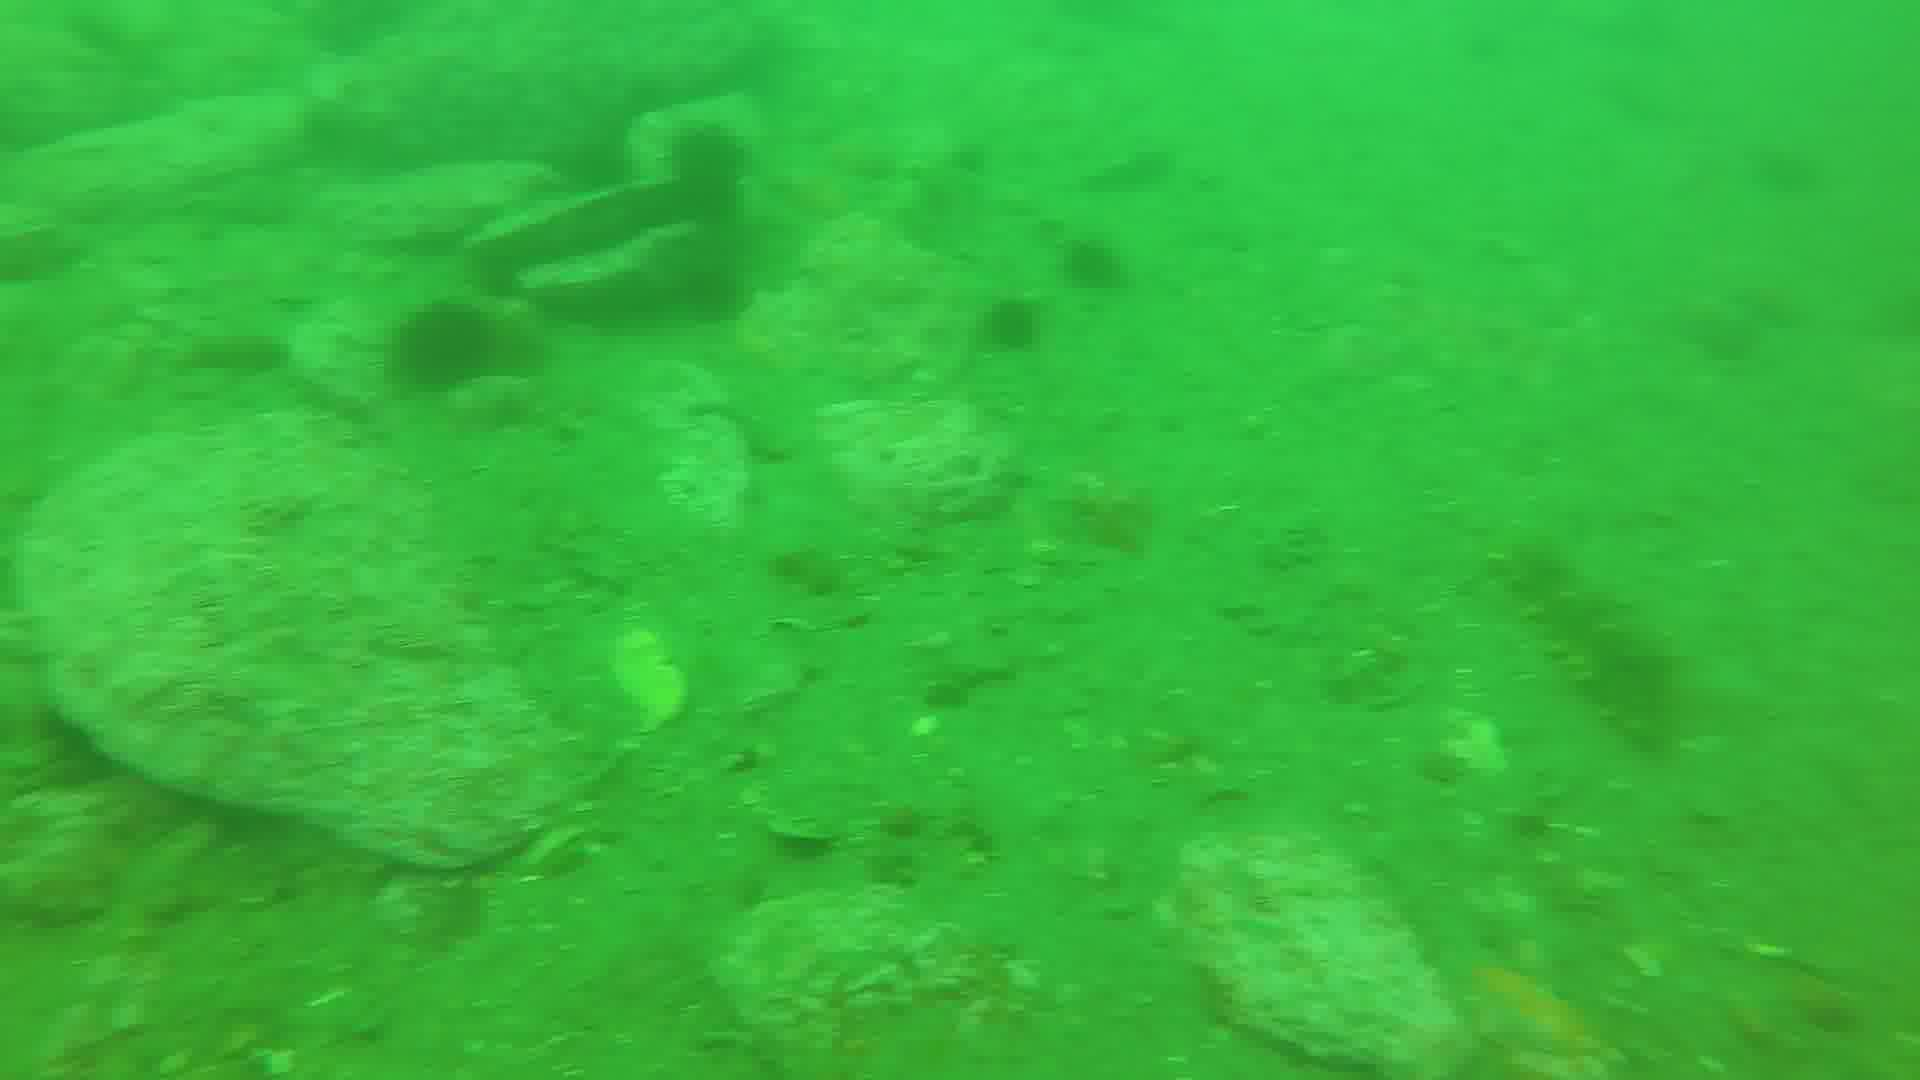echinus: (409, 302, 517, 401), (673, 123, 752, 206), (684, 264, 752, 315), (982, 301, 1044, 355), (1065, 243, 1121, 289)
holothurian: (1506, 541, 1673, 748)
